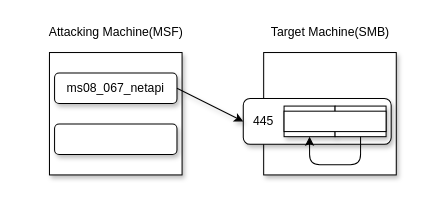
Some shapes in this 448 by 200 pixel diagram are drawn without their labels. The shapes that lost their labels are listed below. From the top down, each one's centre as x and y in pixels, then its label:
the point at 116,140: Listener - 4444
the point at 334,121: Shellcode addr
